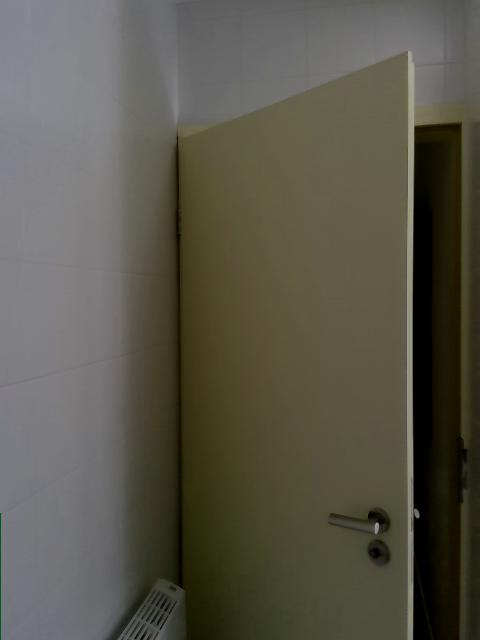semi_door: (172, 46, 479, 636)
